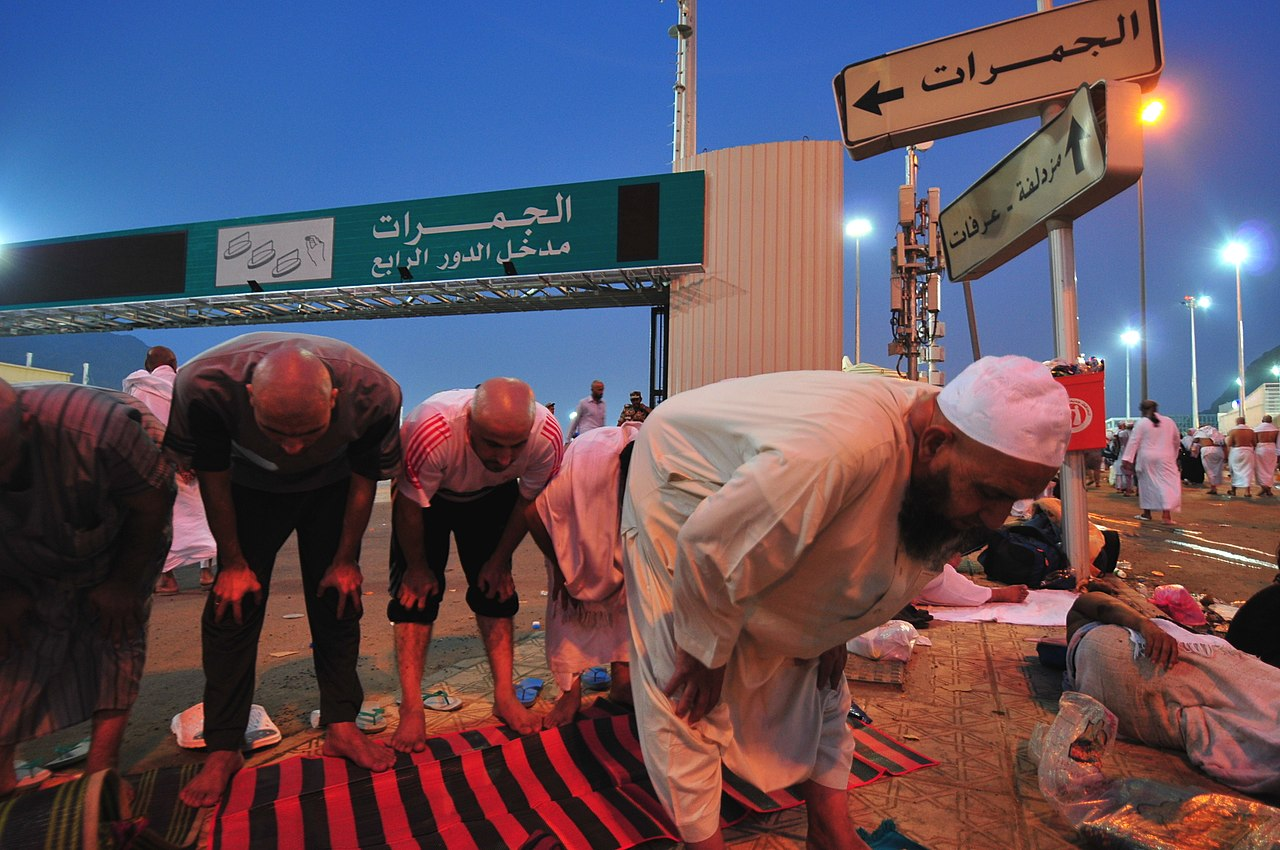ruku: (610, 319, 1092, 843), (163, 298, 402, 797), (402, 330, 563, 787)
